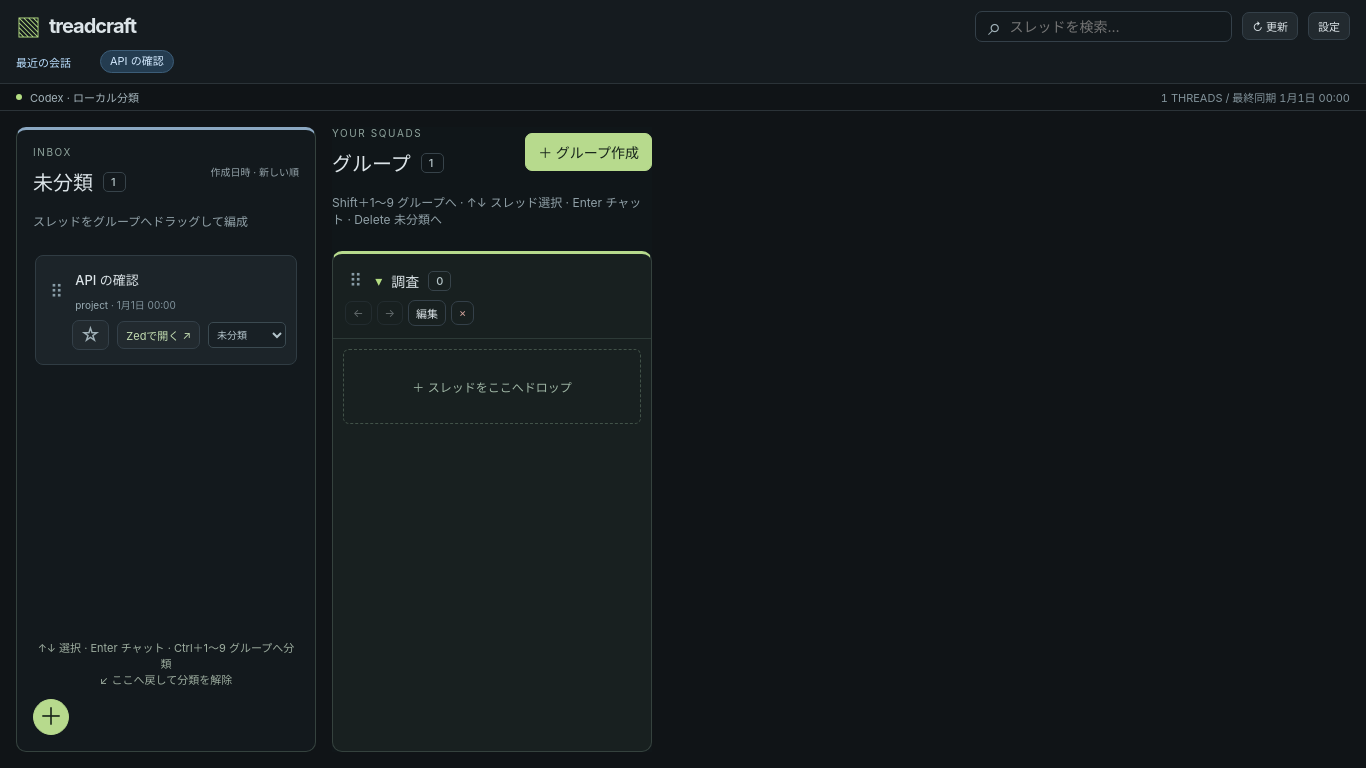
Test: reports a Zed launch failure without losing the thread
This screenshot has width=1366, height=768.
Click the button with aria-label "API の確認 のワークスペースを Zed で開く": click(159, 335) [117,321,200,349]
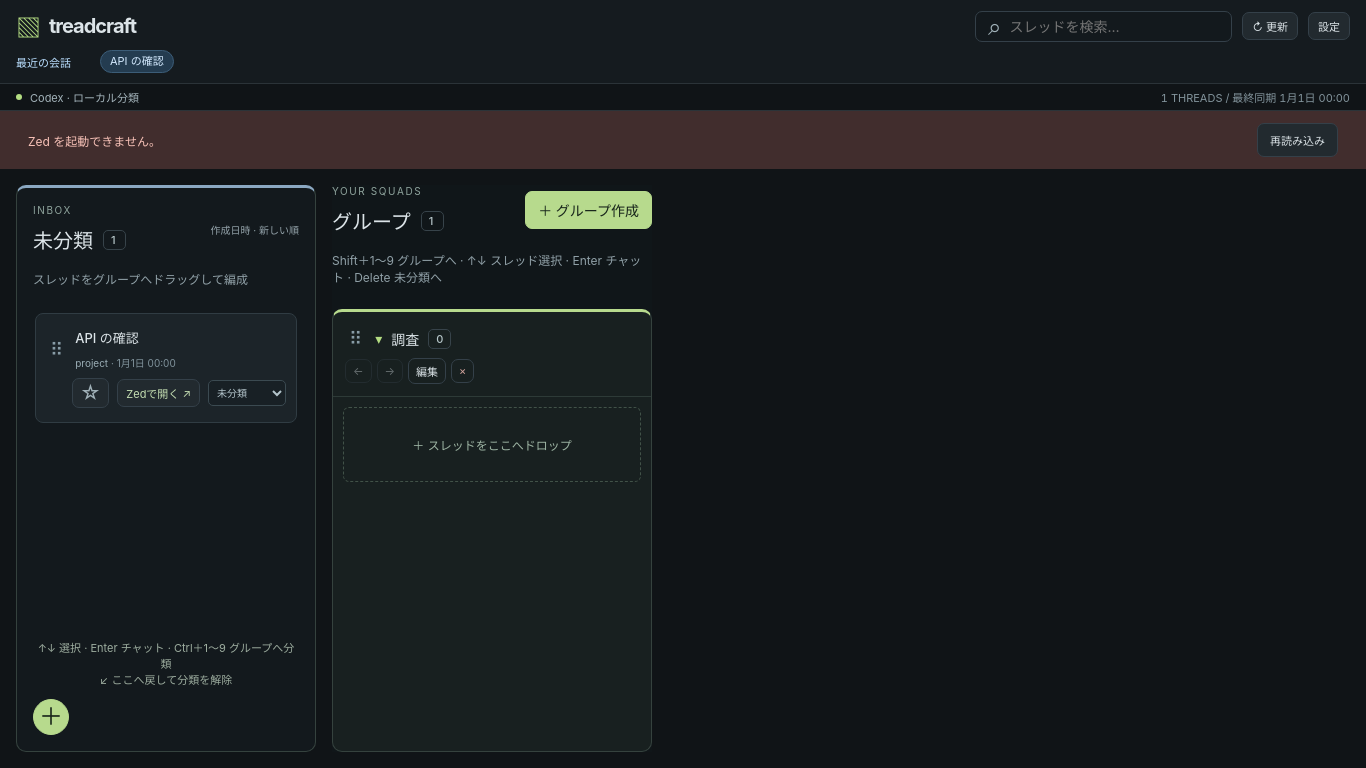
expect the heading "API の確認" is shown: met, box [75,330,139,346]
expect the message shows "Zed を起動できません。": met, box [28,134,161,149]
